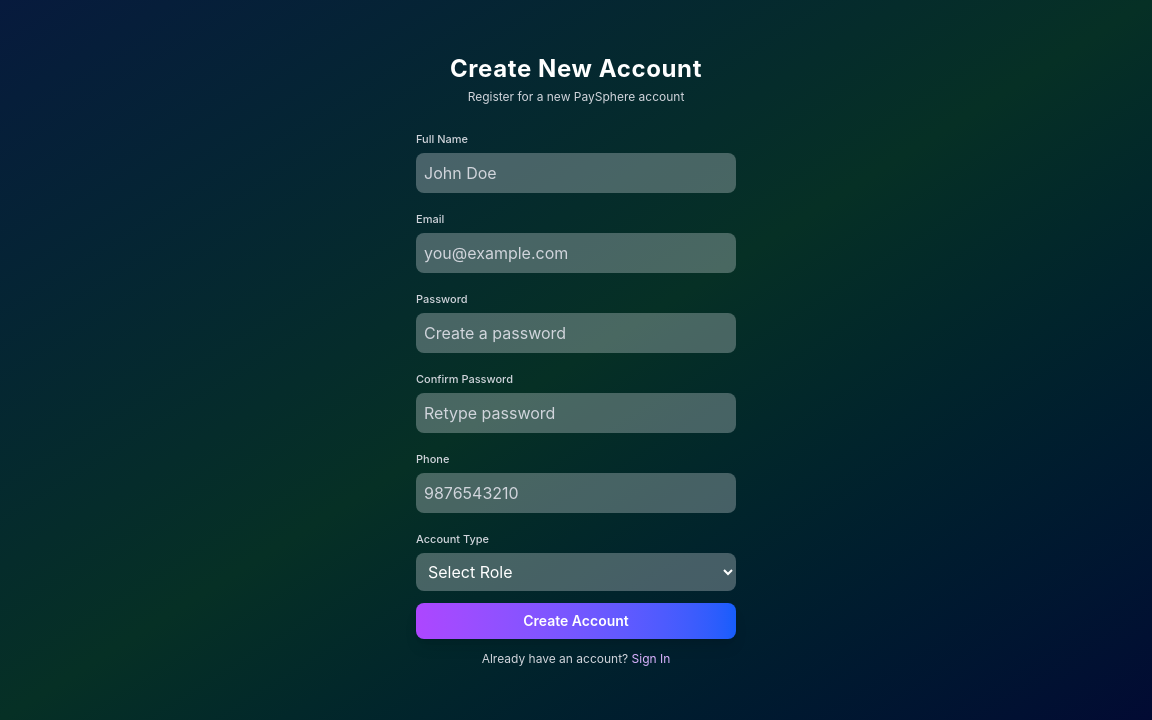
shows category dropdown when Merchant role is selected
This screenshot has width=1152, height=720.
Select "Merchant" in the dropdown labelled "Account Type" at {"x": 576, "y": 572}, box x1=416 y1=553 x2=736 y2=591
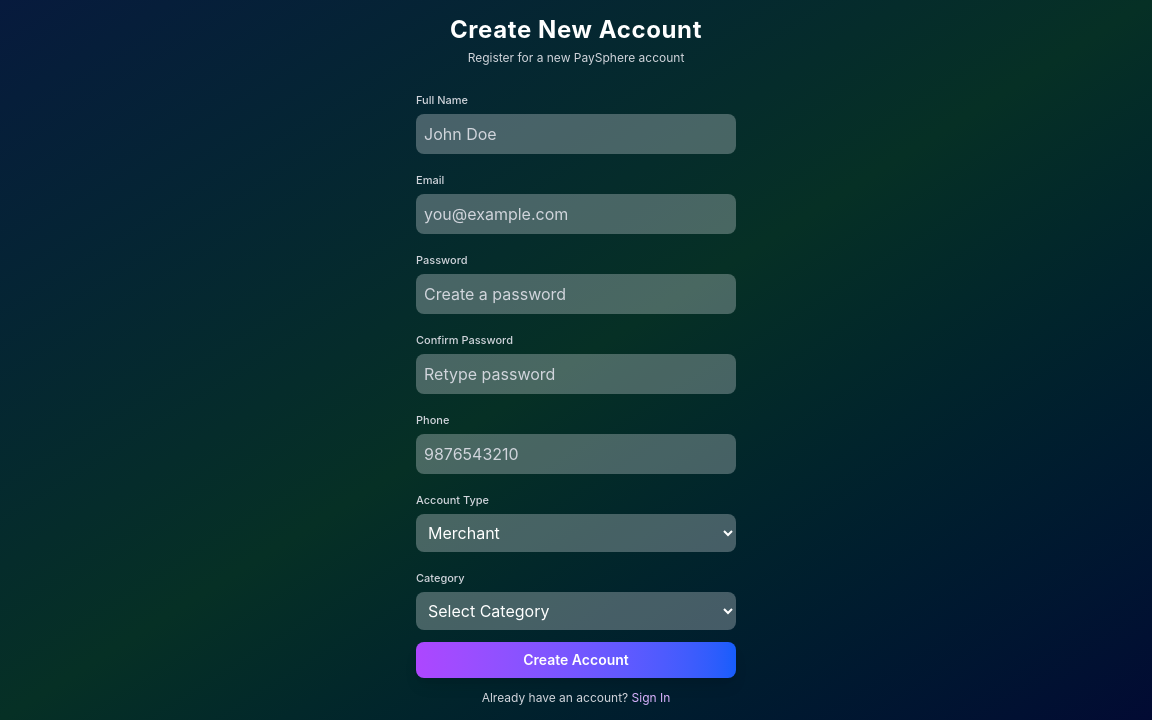
Result: the dropdown labelled "Category" is shown at x1=416 y1=592 x2=736 y2=630
